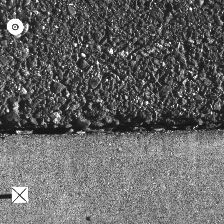circle: (7, 18, 24, 35)
crack: (1, 118, 222, 136)
square: (11, 187, 28, 203)
